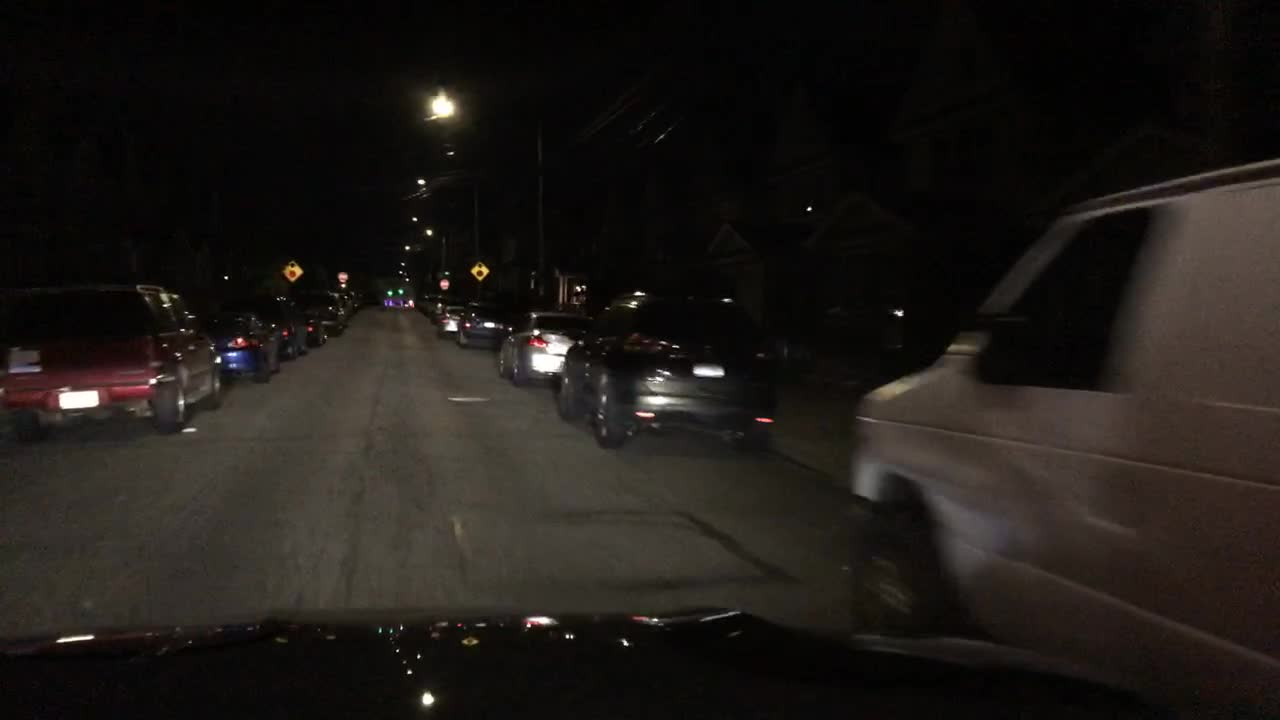car: (839, 157, 1278, 718), (555, 286, 776, 446), (0, 286, 223, 436), (496, 310, 593, 385), (202, 311, 284, 384), (252, 295, 306, 363), (459, 300, 515, 346), (295, 299, 329, 346), (311, 293, 346, 336), (436, 306, 469, 338), (338, 291, 356, 320), (426, 296, 451, 314)
traffic sign: (281, 258, 301, 281), (469, 262, 491, 279), (336, 272, 348, 281), (441, 279, 449, 289)
